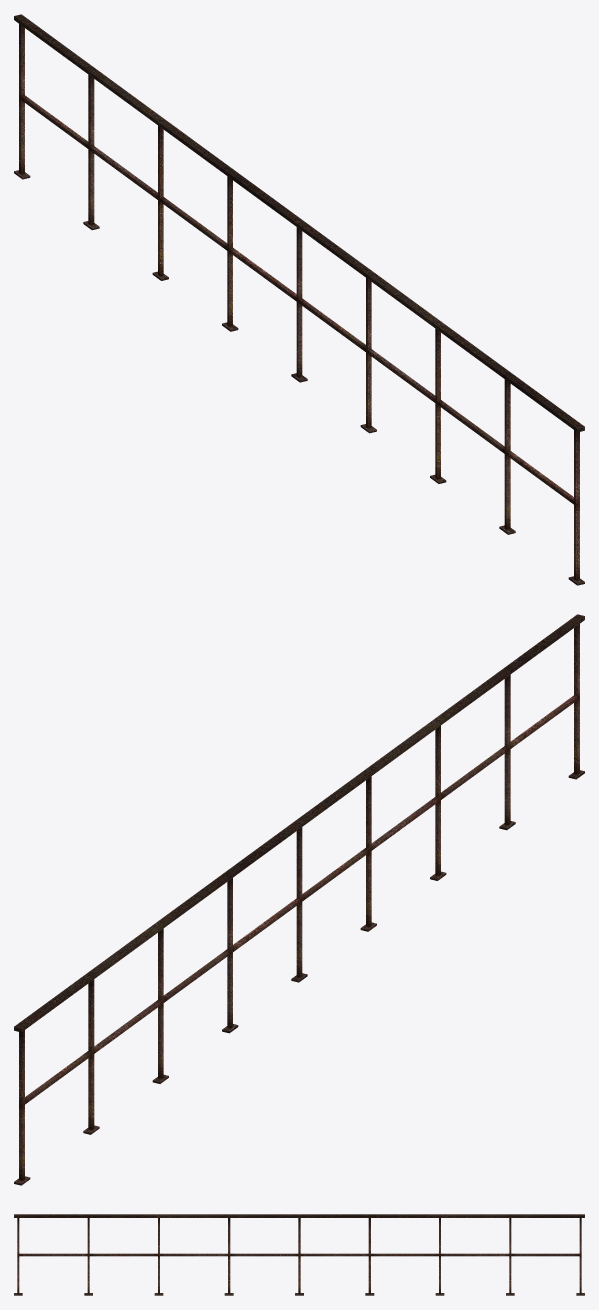
File: handrail_alley-upperdeck.glb
3 views of the same model, one above another, from view 1: azimuth 30°, elevation 25°; view 2: azimuth 150°, elevation 25°; view 3: azimuth 270°, elevation 25° (orthographic). The views are drawn at different scales.
Parts seen in each view (by area): view 1: 0_de_train_handrails_01; view 2: 0_de_train_handrails_01; view 3: 0_de_train_handrails_01.
Boxes of the visible parts, x1,y1,x2,y2 form: 0_de_train_handrails_01: [14, 14, 584, 585]; 0_de_train_handrails_01: [14, 614, 584, 1185]; 0_de_train_handrails_01: [14, 1214, 584, 1295].
Bounding box in the file's own units: 0.0508 × 1.02 × 6.6.
Materials: 1 (1 with a texture image).
